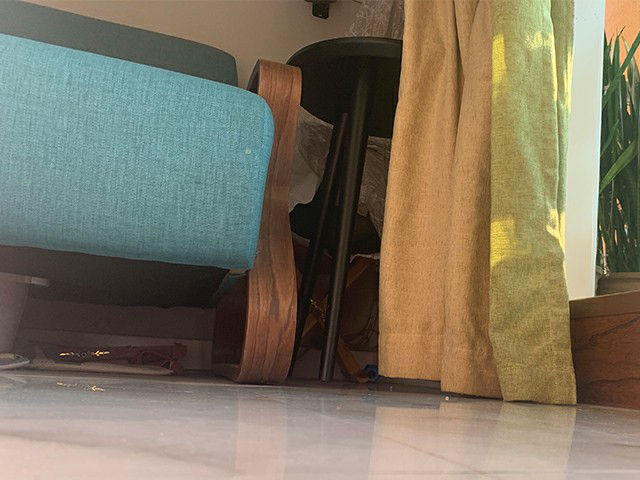curtain: (344, 1, 578, 405)
sofa: (1, 1, 296, 386)
stool: (287, 36, 402, 384)
